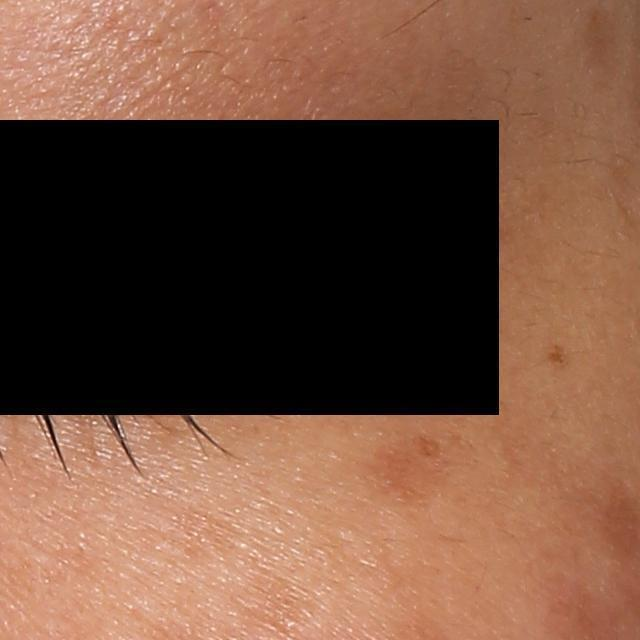melasma: (415, 432, 445, 459)
nevus: (544, 339, 568, 366)
